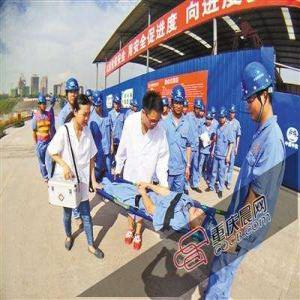blue: (241, 62, 275, 125), (172, 86, 187, 115), (66, 79, 80, 103), (91, 91, 104, 115), (194, 96, 204, 117), (37, 95, 48, 114), (220, 107, 228, 125), (114, 94, 122, 112), (229, 103, 237, 120), (206, 111, 213, 127), (133, 99, 139, 113)
none: (142, 91, 164, 129), (72, 96, 92, 127)
